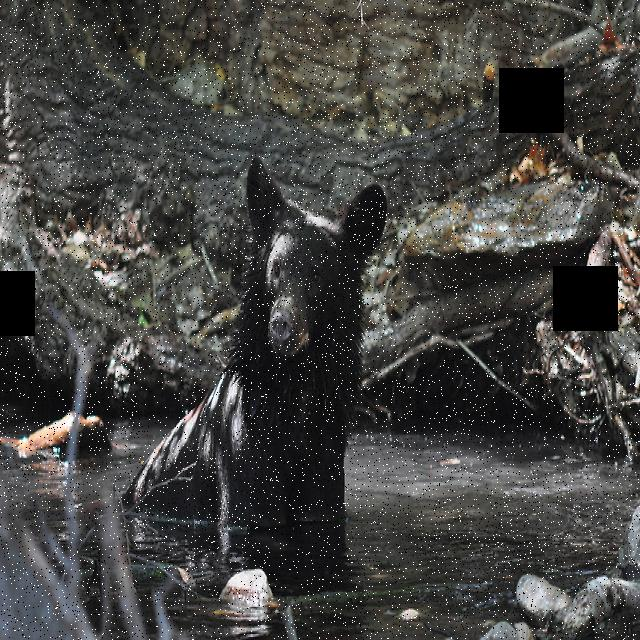Bear: (101, 159, 398, 565)
